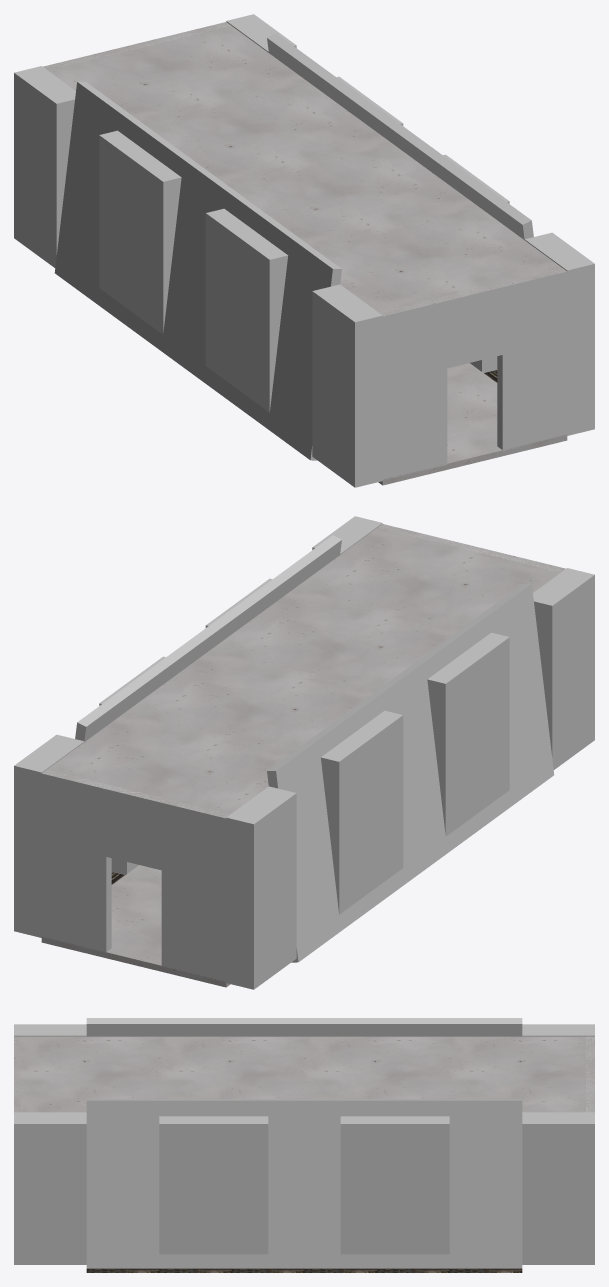
File: LC_room2_2.obj
The picture shows the model from 3 angles, top to bottom: view 1: azimuth 30°, elevation 25°; view 2: azimuth 150°, elevation 25°; view 3: azimuth 270°, elevation 25°; orthographic projection. The views are drawn at different scales.
Visible parts, largest first — view 1: LC_room2_2; view 2: LC_room2_2; view 3: LC_room2_2.
Part boxes in pixels (bbox=[...]): LC_room2_2: bbox=[14, 14, 594, 487]; LC_room2_2: bbox=[14, 516, 594, 989]; LC_room2_2: bbox=[14, 1018, 594, 1272].
Bounding box in the file's own units: 8.45 × 6.36 × 20.48.
